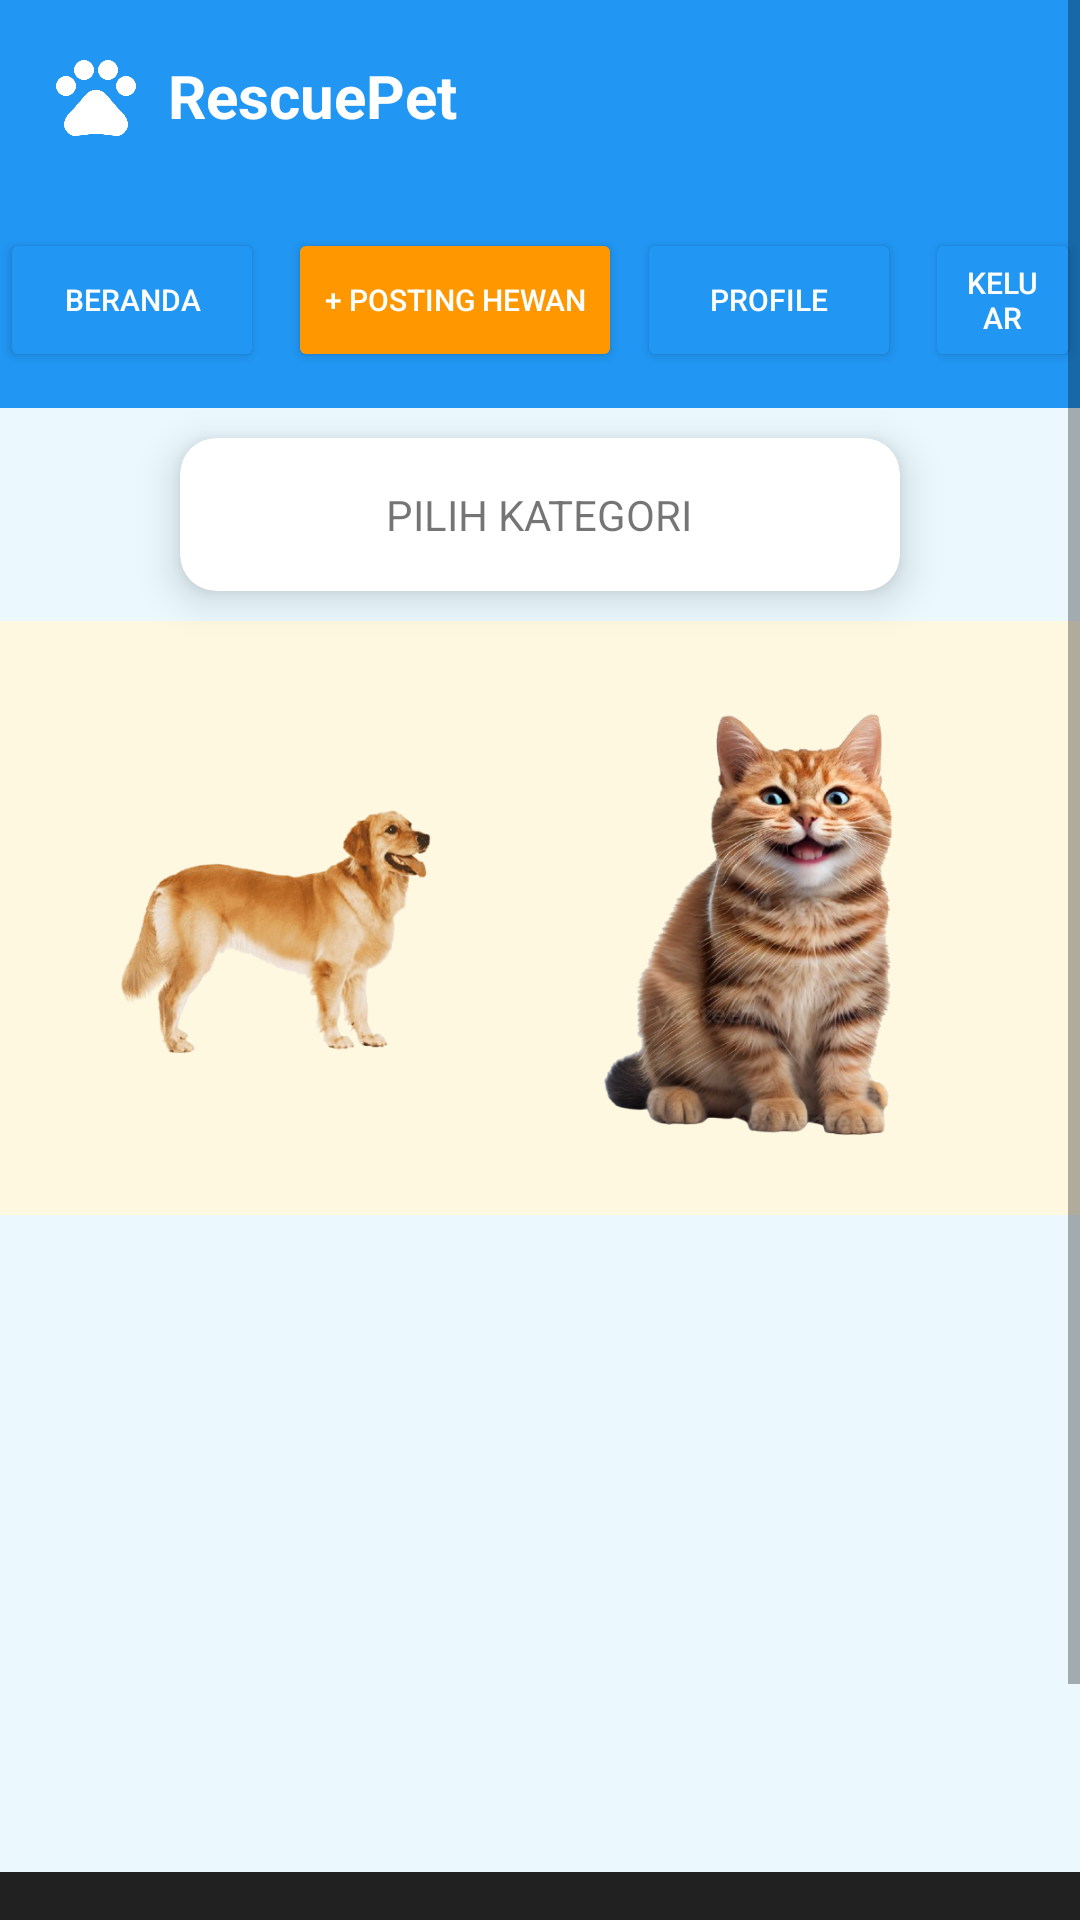

Icons on this 1080x1920 Android screen, each with its box as (x1, y1, x2, y2):
dog: (121, 811, 430, 1053)
